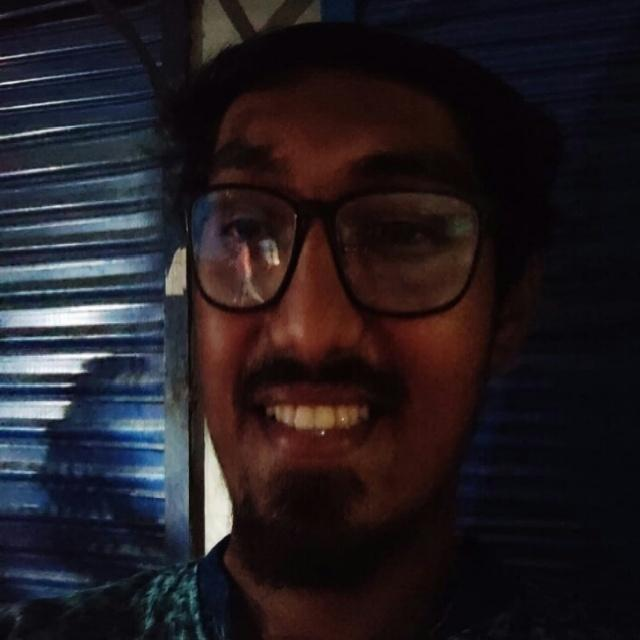Happy: (146, 63, 514, 532)
